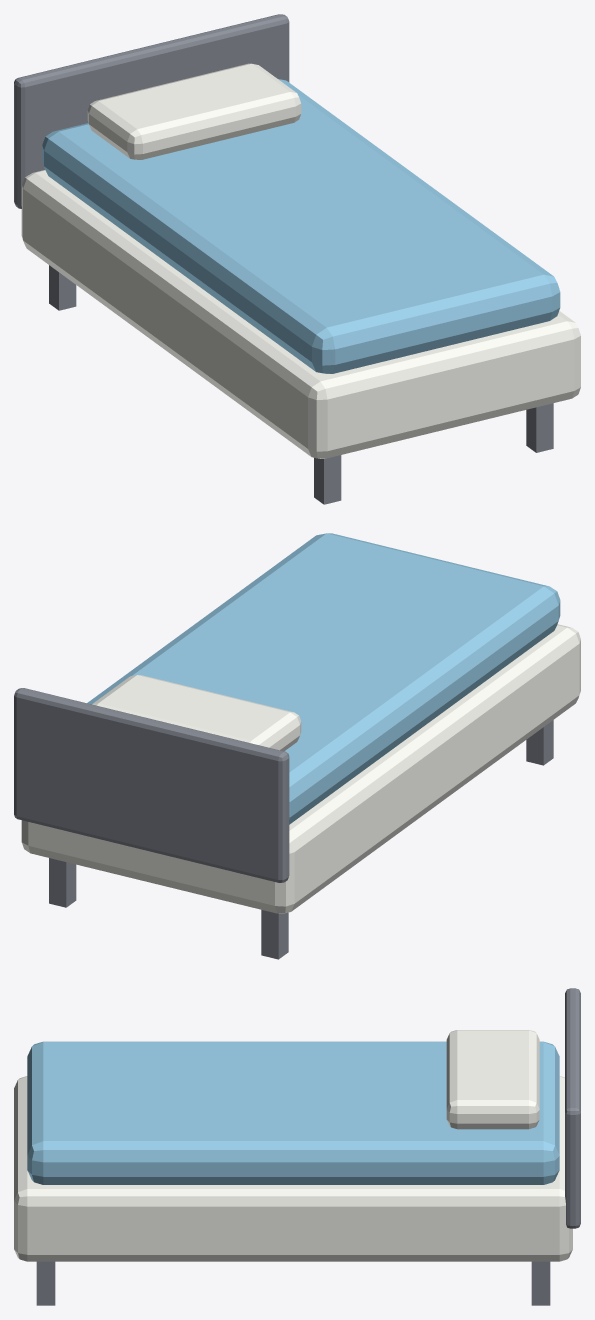
The model's file is int_ranjang.fbx.
3 views of the same model, one above another, from view 1: azimuth 30°, elevation 25°; view 2: azimuth 150°, elevation 25°; view 3: azimuth 270°, elevation 25° (orthographic). The views are drawn at different scales.
Visible parts, largest first — view 1: int_ranjang; view 2: int_ranjang; view 3: int_ranjang.
Boxes of the visible parts, <box> form: int_ranjang: <box>14,14,580,504</box>; int_ranjang: <box>14,533,580,959</box>; int_ranjang: <box>14,988,580,1305</box>.
Bounding box in the file's own units: 110 × 85 × 213.
1 material, 1 textured.
